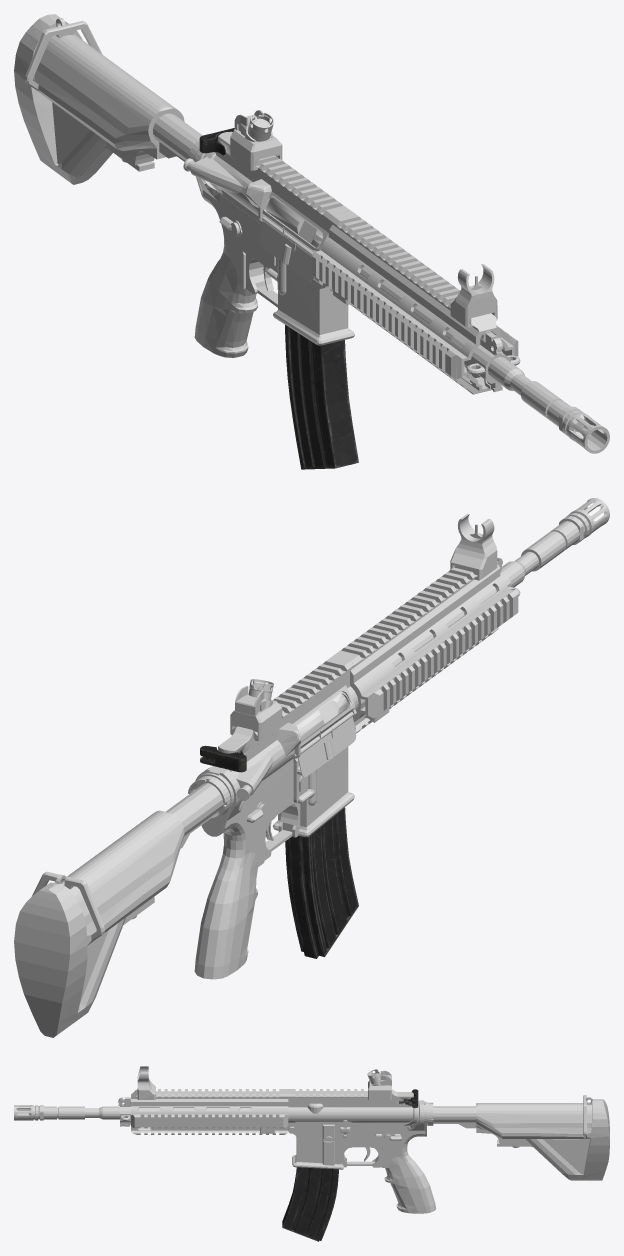
3 renders of one model, top to bottom at view 1: azimuth 30°, elevation 25°; view 2: azimuth 150°, elevation 25°; view 3: azimuth 270°, elevation 25°, orthographic. The views are drawn at different scales.
Parts seen in each view (by area): view 1: Object_4; view 2: Object_4; view 3: Object_4.
Boxes of the visible parts, x1,y1,x2,y2 form: Object_4: [14, 14, 609, 469]; Object_4: [14, 498, 609, 1037]; Object_4: [14, 1066, 609, 1241].
Bounding box in the file's own units: 86.32 × 334 × 1057.
5 materials, 3 textured.
